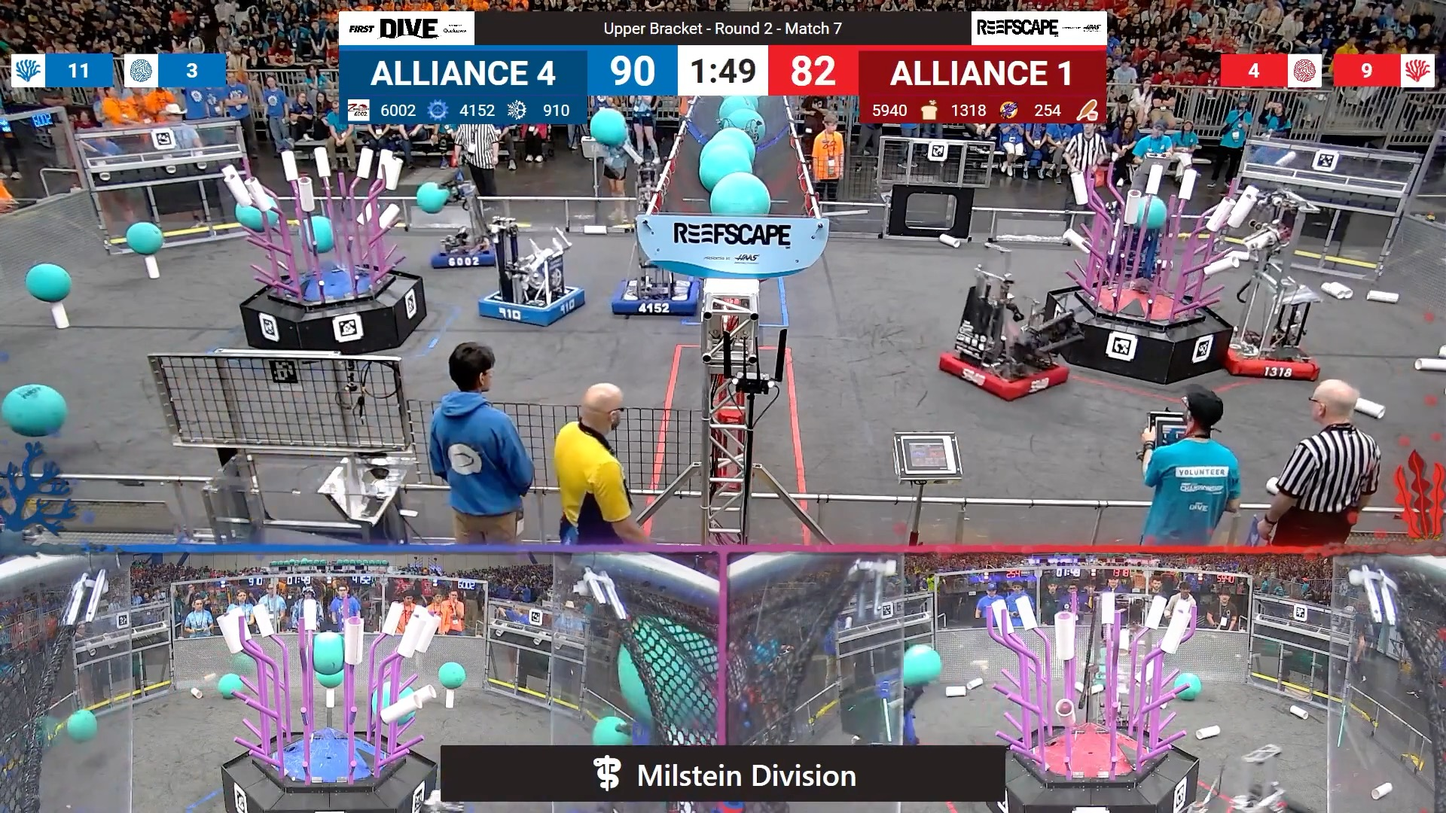bumpers: (934, 341, 1078, 402), (1214, 331, 1327, 387), (477, 284, 592, 332), (608, 273, 710, 321), (422, 239, 506, 273)
